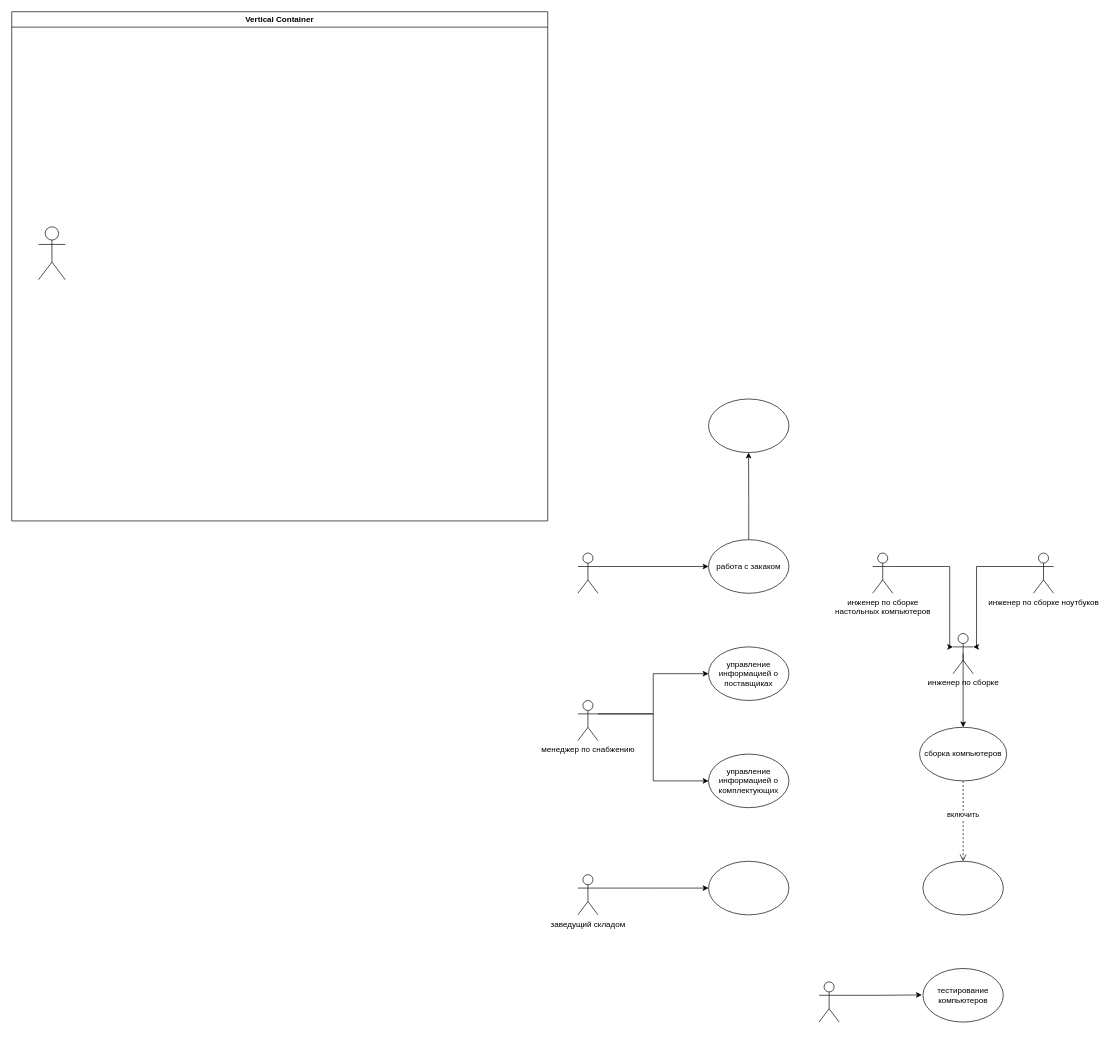
Some shapes in this 1110 by 1048 pixel diagram are drawn without their labels. The centre of each missing label's shape, as x and y in pixels:
"Actor" belongs at pixel 51 253.
"инженер по тестированию" belongs at pixel 828 1001.
"менеджер по работе с клиентами" belongs at pixel 587 572.
"требования необходимых комплектующих" belongs at pixel 962 888.
"управление информации о клиенте" belongs at pixel 748 425.
"учёт поступления и выдачи товара" belongs at pixel 748 888.
